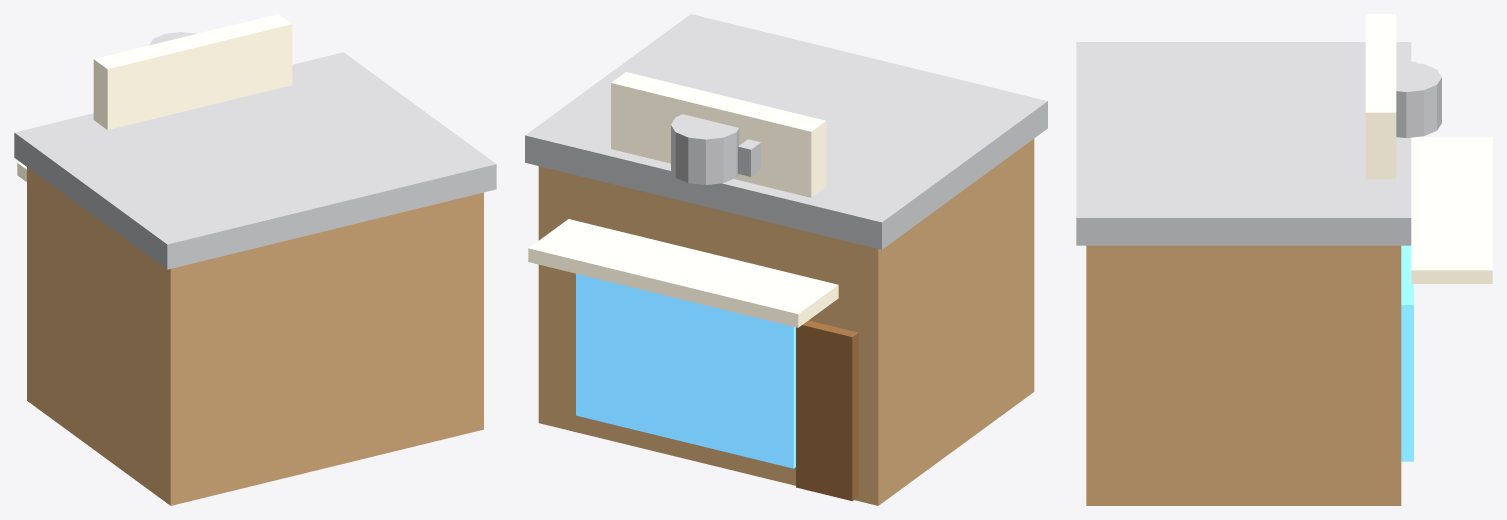
Rendered from coffee.glb.
3 renders of one model, left to right at view 1: azimuth 30°, elevation 25°; view 2: azimuth 150°, elevation 25°; view 3: azimuth 270°, elevation 25°, orthographic. The views are drawn at different scales.
Parts seen in each view (by area): view 1: coffee; view 2: coffee; view 3: coffee.
Part boxes in pixels (x1,y1,x2,y2): coffee: (14,14,496,505); coffee: (525,14,1047,505); coffee: (1076,14,1492,505).
Size of the model in its own units: 0.82 by 0.78 by 0.82.
